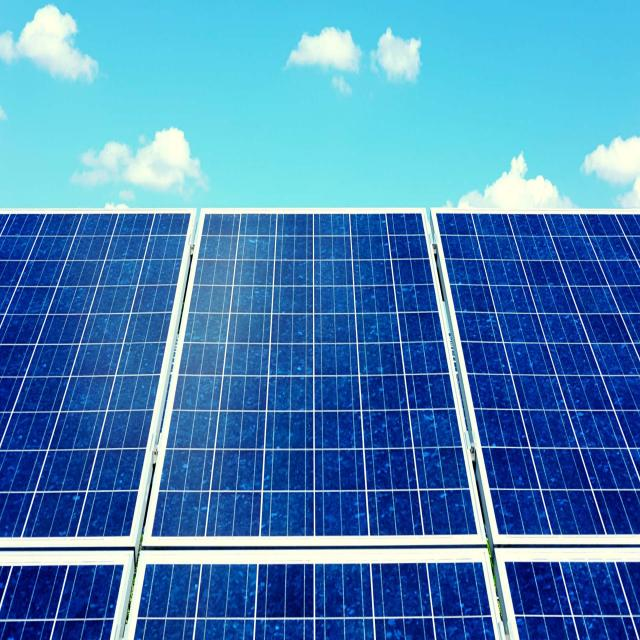no faulty: (1, 222, 640, 640)
